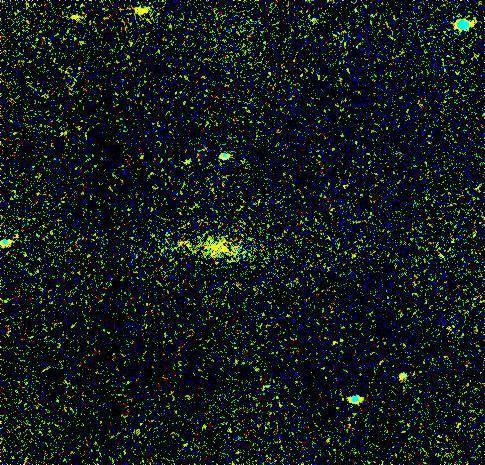star: (127, 0, 157, 25)
